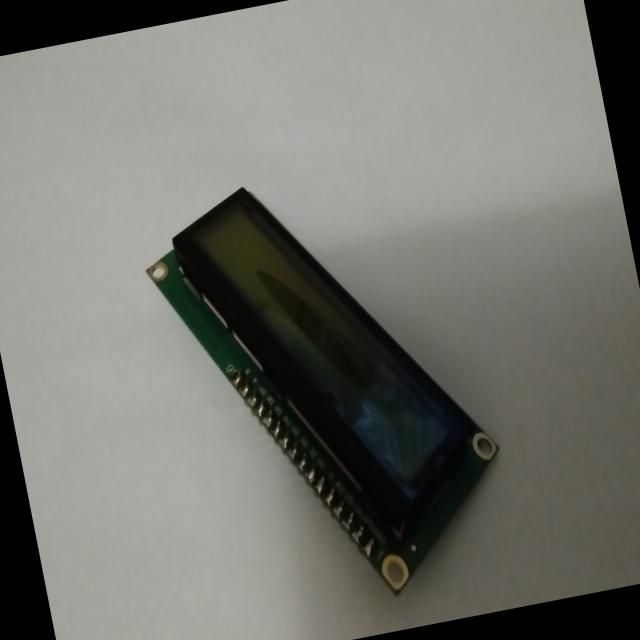lcd: (134, 145, 524, 630)
